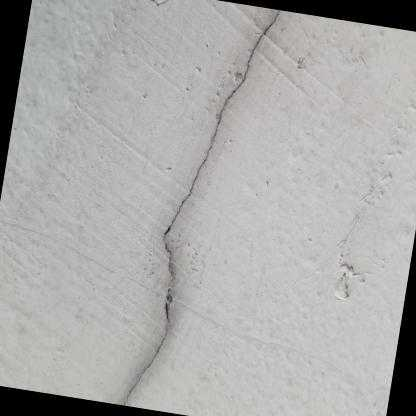crack: (121, 8, 279, 405)
